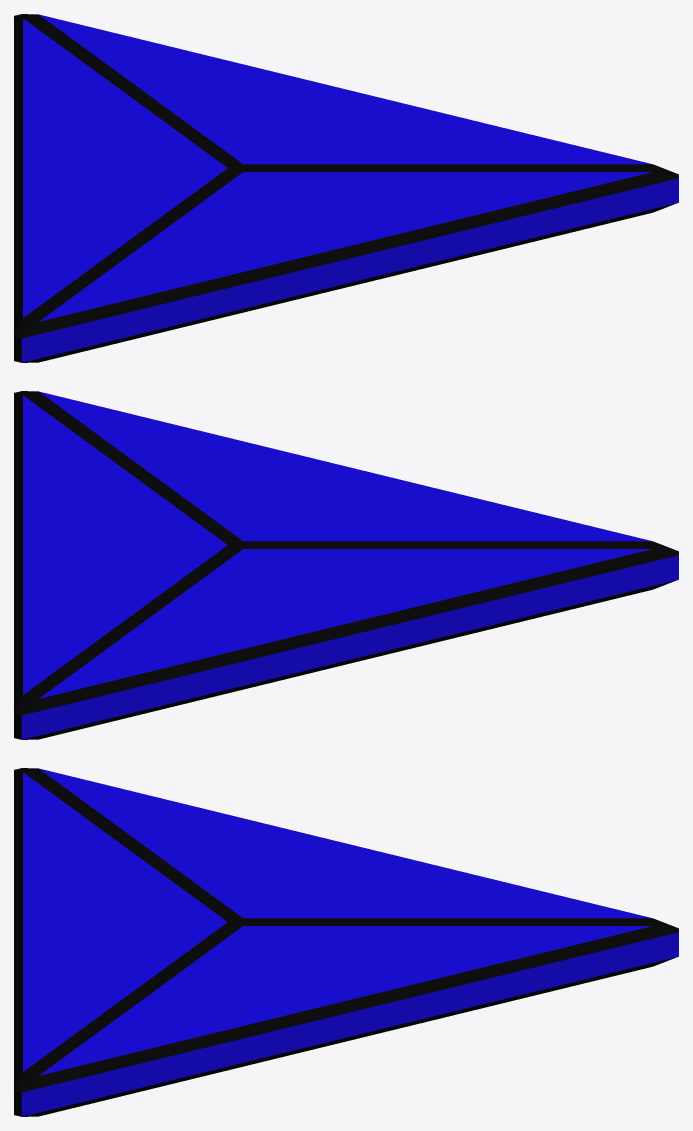
File: שלךיש ריק.fbx
3 views of the same model, one above another, from view 1: azimuth 30°, elevation 25°; view 2: azimuth 150°, elevation 25°; view 3: azimuth 270°, elevation 25° (orthographic).
Parts seen in each view (by area): view 1: Circle; view 2: Circle; view 3: Circle.
Boxes of the visible parts, x1,y1,x2,y2 form: Circle: (14, 14, 678, 362); Circle: (14, 391, 678, 739); Circle: (14, 768, 678, 1116).
Size of the model in its own units: 171 by 10 by 148.
